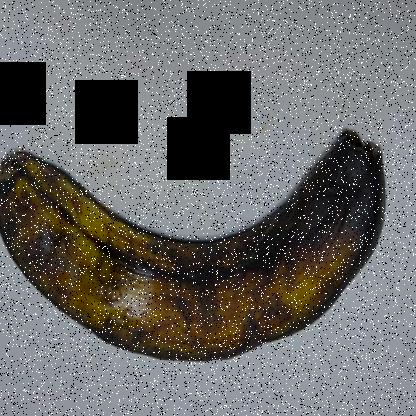overripe: (1, 75, 400, 378)
